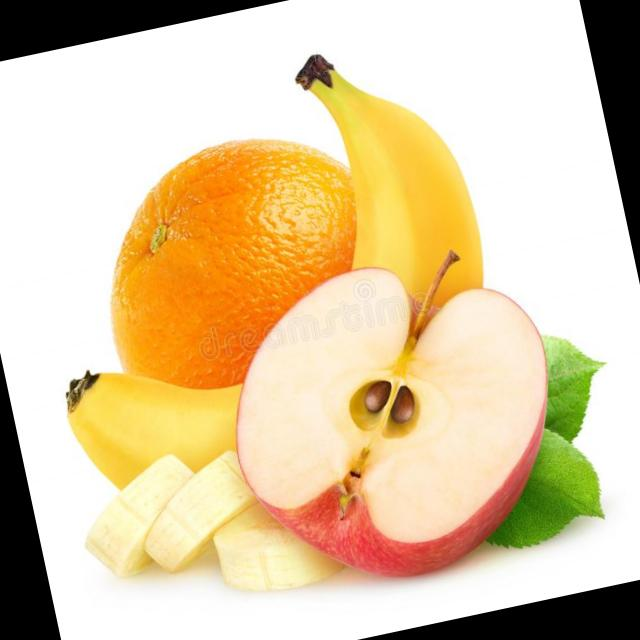banana: (23, 71, 570, 548)
orange: (77, 119, 420, 474)
